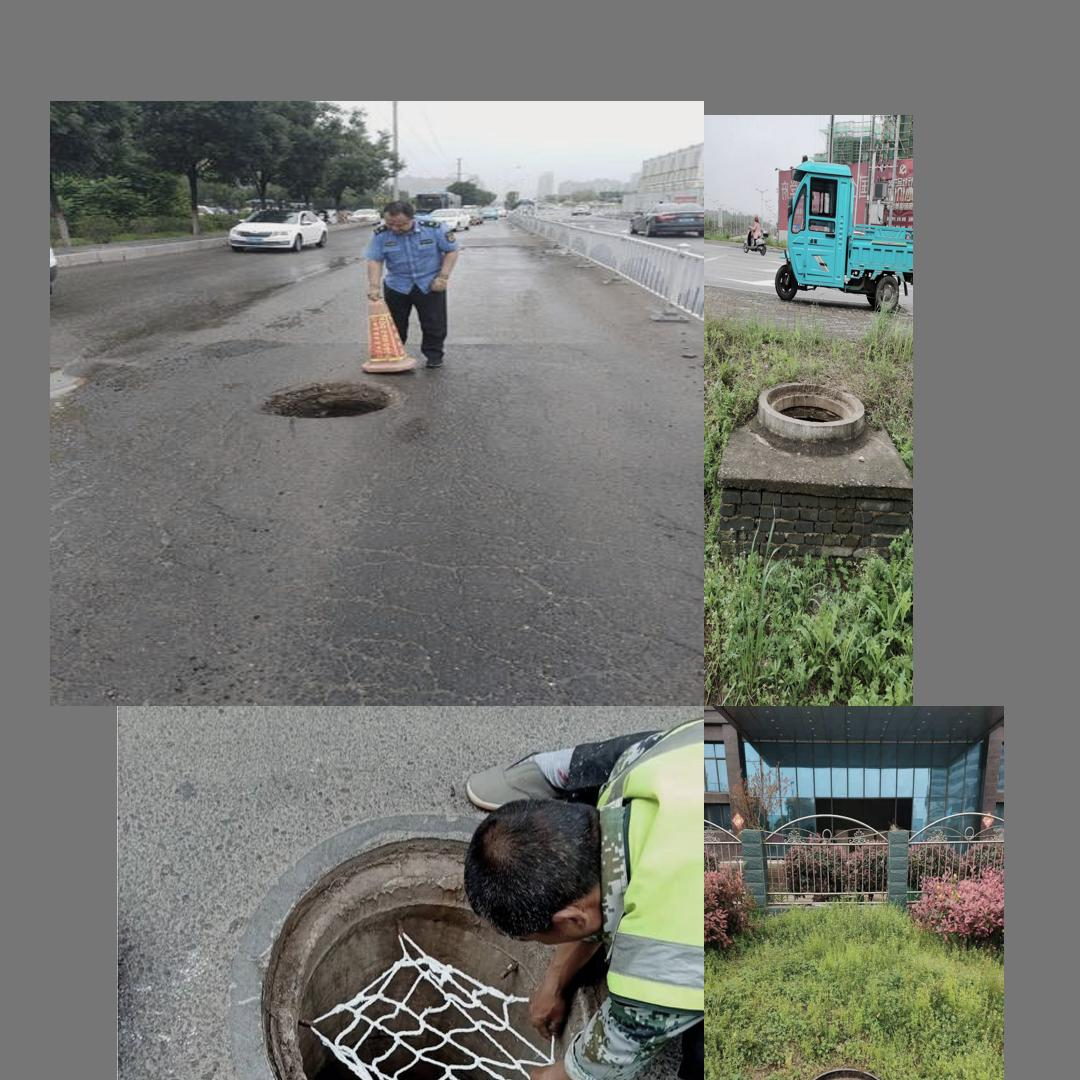lose: (245, 817, 631, 1080), (233, 370, 413, 426), (757, 377, 862, 441), (794, 1066, 899, 1080)
